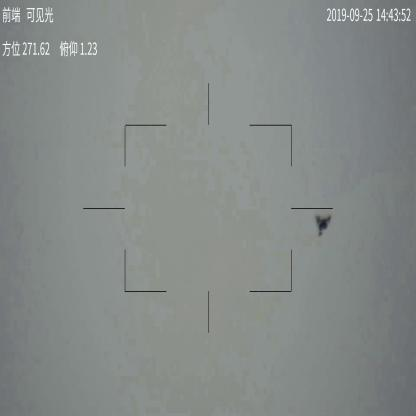uav: (315, 213, 333, 238)
